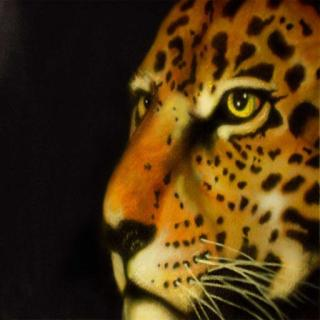Leopard: (100, 0, 320, 314)
